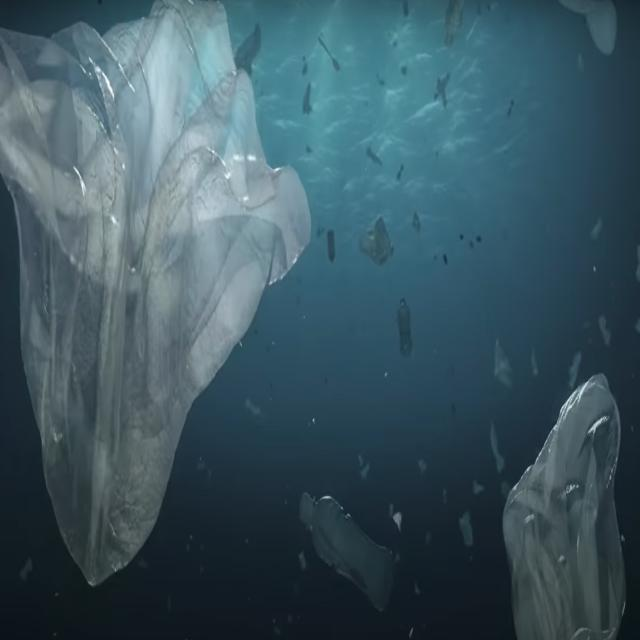plasticcover: (5, 17, 267, 592), (486, 387, 638, 640)
